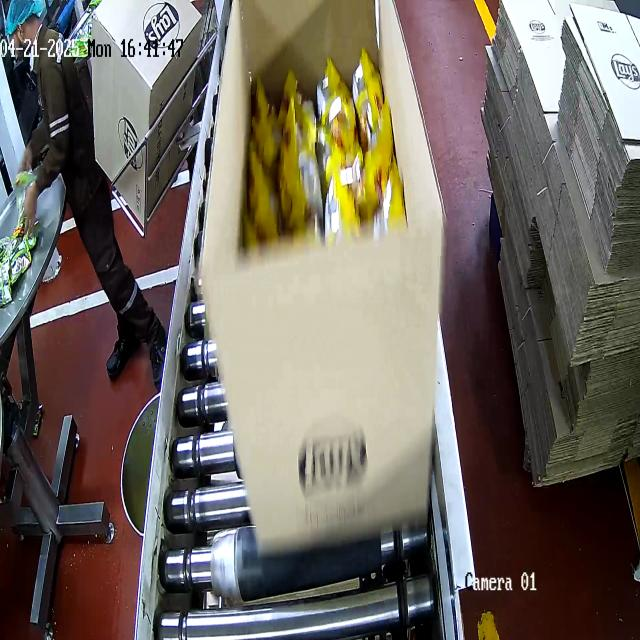SALTED: (241, 44, 407, 248)
